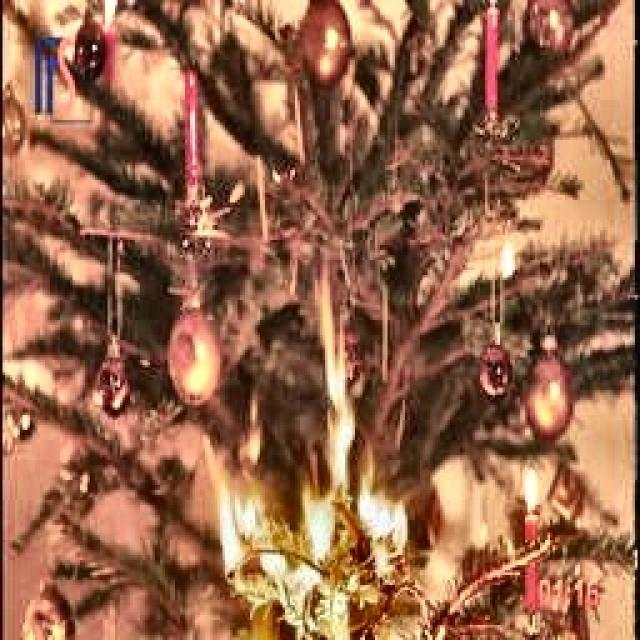fire: (212, 425, 412, 605)
